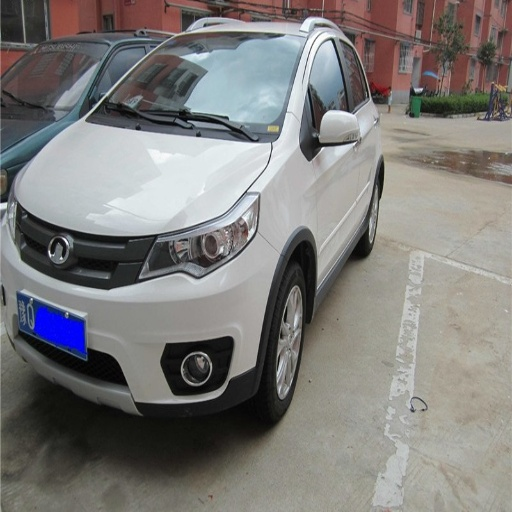front_bumper: (3, 202, 278, 415)
front_glass: (10, 33, 303, 142)
front_left_door: (302, 29, 357, 275)
